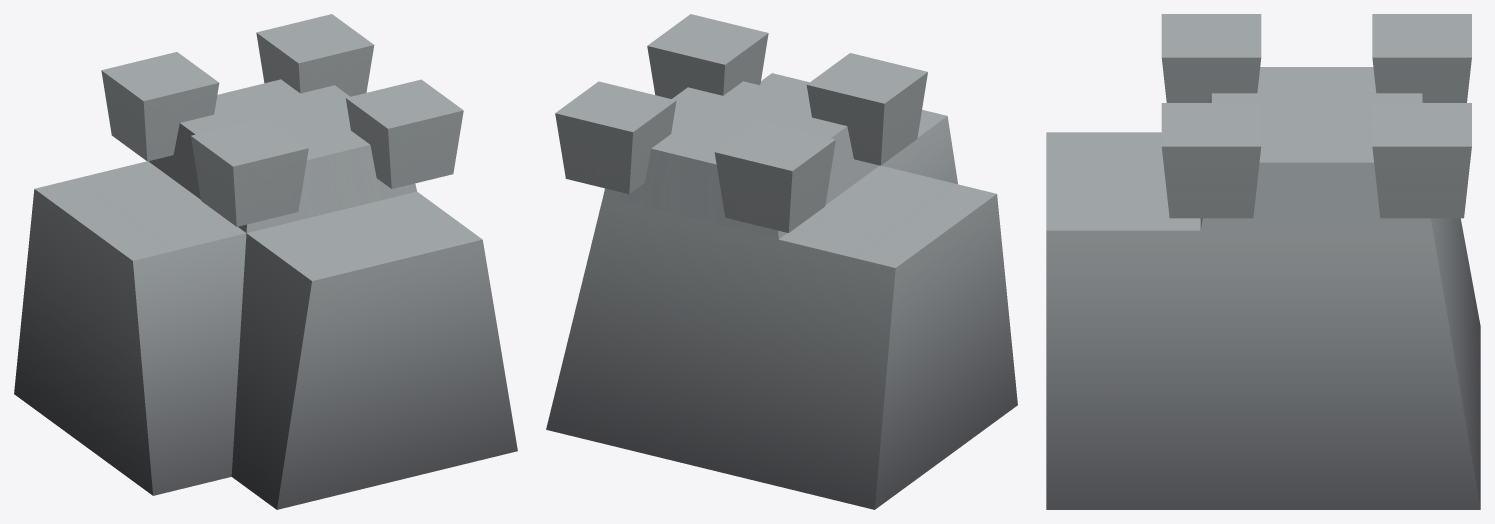
Rendered from SM_WallCorner_Rampart.fbx.
The picture shows the model from 3 angles, left to right: view 1: azimuth 30°, elevation 25°; view 2: azimuth 150°, elevation 25°; view 3: azimuth 270°, elevation 25°; orthographic projection. The views are drawn at different scales.
Parts seen in each view (by area): view 1: SM_WallCorner_Rampart; view 2: SM_WallCorner_Rampart; view 3: SM_WallCorner_Rampart.
Part boxes in pixels (x1,y1,x2,y2): SM_WallCorner_Rampart: (14, 14, 517, 509); SM_WallCorner_Rampart: (546, 14, 1017, 509); SM_WallCorner_Rampart: (1046, 14, 1480, 509).
Bounding box in the file's own units: 161 × 147 × 161.
